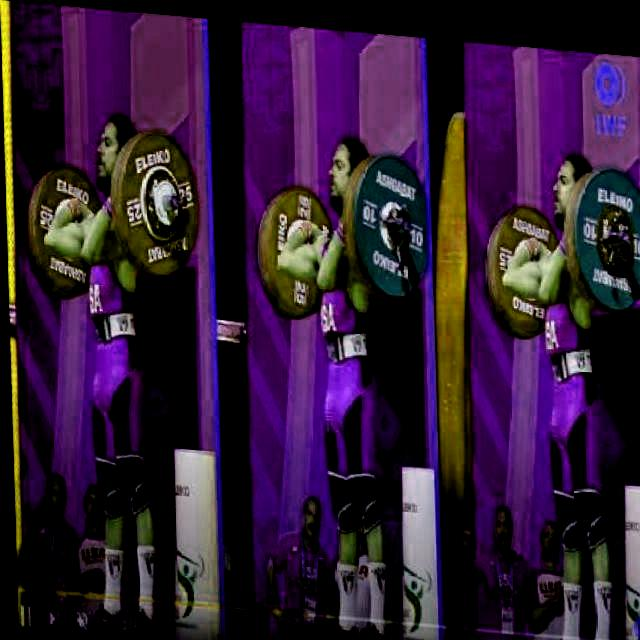barbell: (116, 118, 202, 277), (350, 140, 430, 300), (570, 148, 640, 306)
